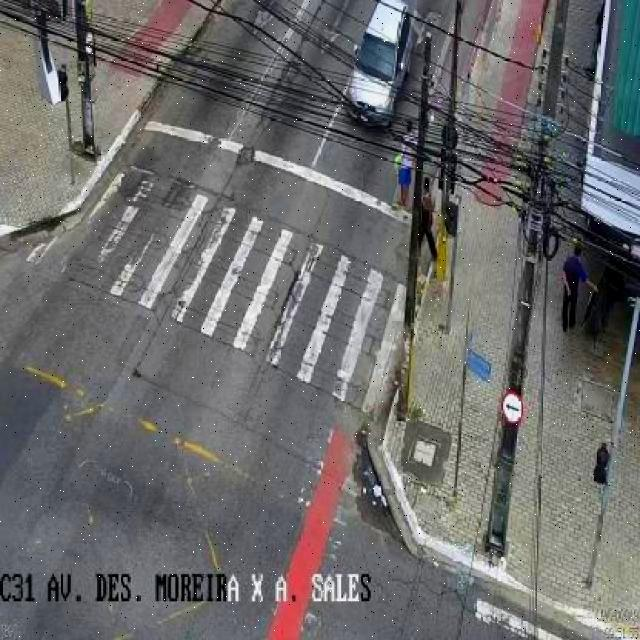Car: (342, 0, 418, 128)
